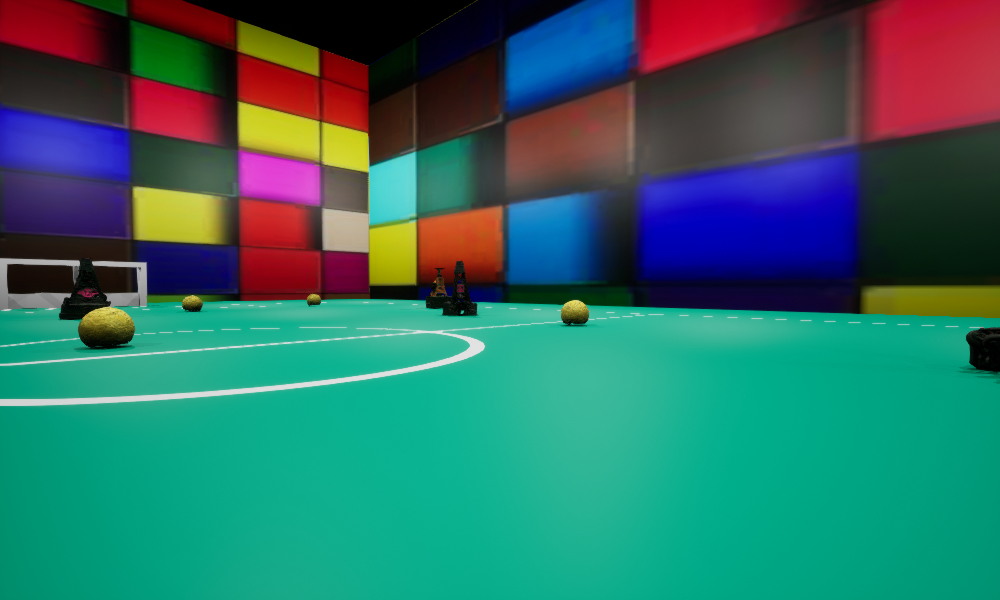b: (78, 307, 134, 347), (561, 300, 588, 325), (182, 295, 202, 311), (307, 294, 320, 305)
o: (425, 268, 451, 308)
p1: (59, 258, 110, 319), (442, 261, 476, 315)
p2: (966, 327, 999, 371)
